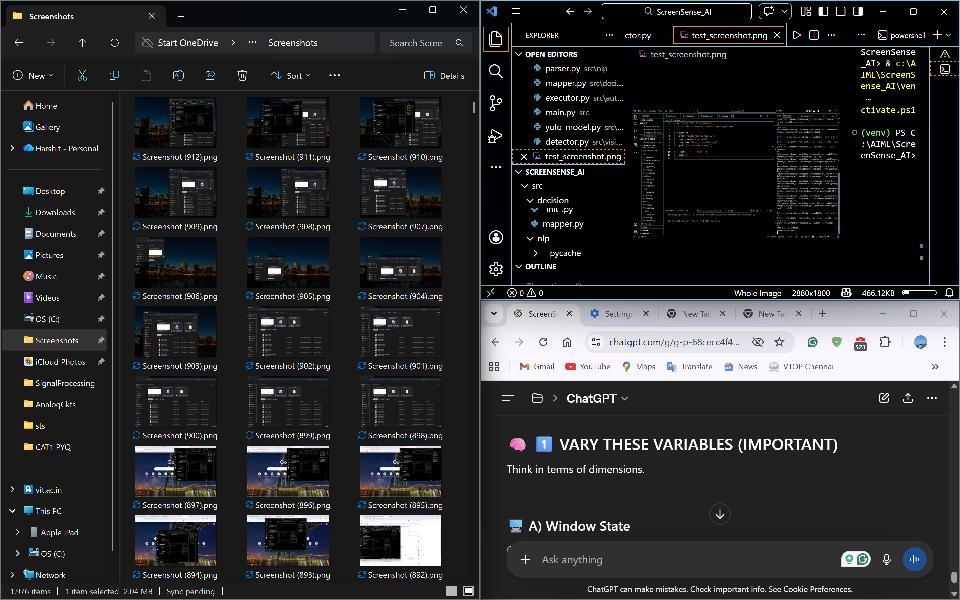close_button: (934, 303, 954, 325), (455, 2, 473, 20), (936, 2, 953, 20)
maximize_button: (903, 303, 926, 326), (902, 2, 926, 19), (424, 2, 443, 21)
minimize_button: (873, 303, 895, 325), (394, 2, 412, 21), (874, 2, 892, 21)
